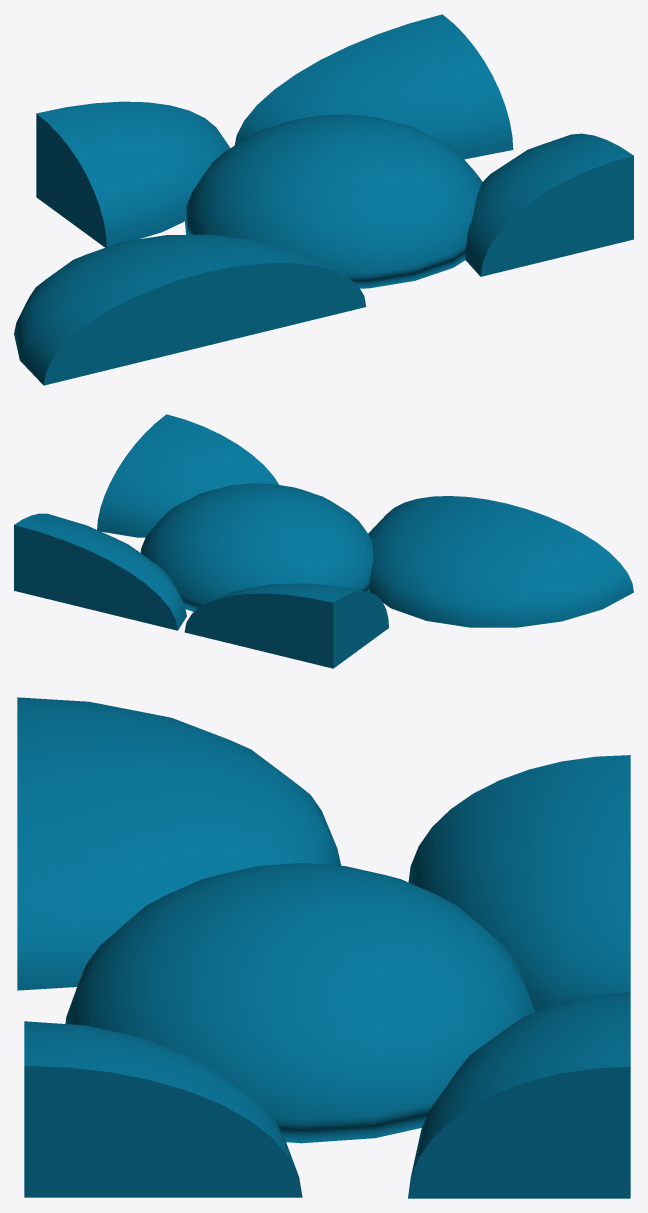
Rendered from spherespinklers.fbx.
The picture shows the model from 3 angles, top to bottom: view 1: azimuth 30°, elevation 25°; view 2: azimuth 150°, elevation 25°; view 3: azimuth 270°, elevation 25°; orthographic projection. The views are drawn at different scales.
Parts seen in each view (by area): view 1: polySurface127; view 2: polySurface127; view 3: polySurface127.
Part boxes in pixels (x1,y1,x2,y2): polySurface127: (14, 14, 633, 385); polySurface127: (14, 414, 633, 668); polySurface127: (17, 697, 630, 1198).
Bounding box in the file's own units: 46.48 × 6.75 × 26.43.
